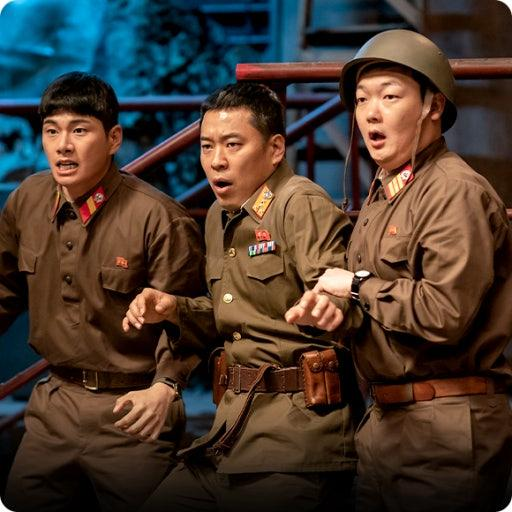north army: (303, 47, 512, 512), (165, 63, 378, 512), (2, 67, 202, 512)
